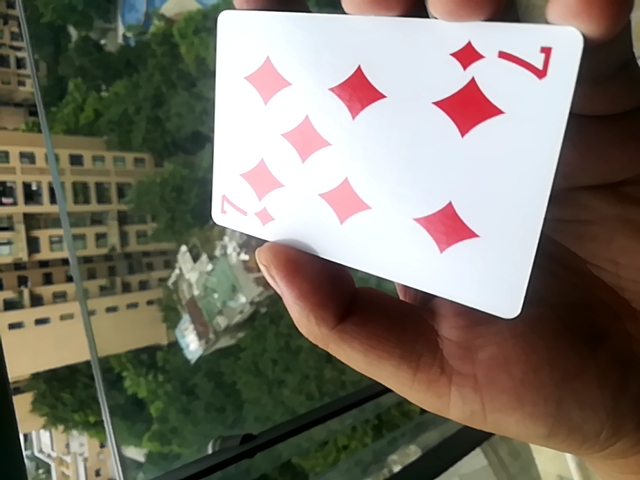fk 7: (202, 4, 584, 325)
